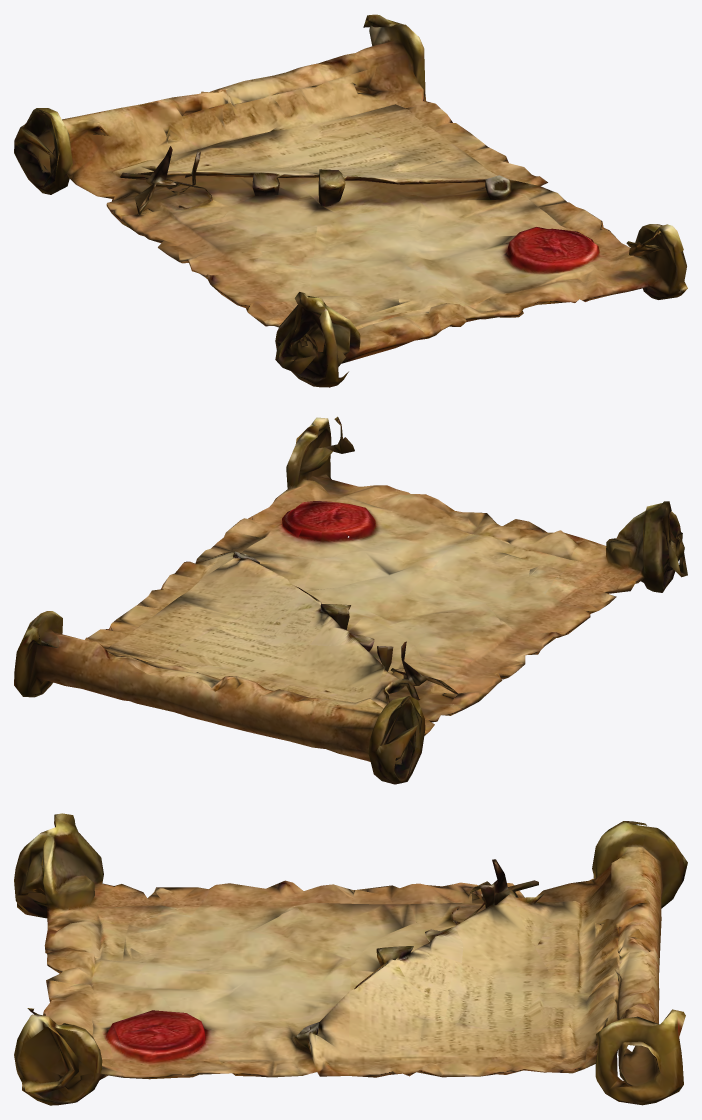
The model's file is mempool-scroll.glb.
The picture shows the model from 3 angles, top to bottom: view 1: azimuth 30°, elevation 25°; view 2: azimuth 150°, elevation 25°; view 3: azimuth 270°, elevation 25°; orthographic projection. The views are drawn at different scales.
Visible parts, largest first — view 1: tripo_node_13026cf5-1363-46cd-a3e3-1f3f193805f4; view 2: tripo_node_13026cf5-1363-46cd-a3e3-1f3f193805f4; view 3: tripo_node_13026cf5-1363-46cd-a3e3-1f3f193805f4.
Boxes of the visible parts, bbox=[...] form: tripo_node_13026cf5-1363-46cd-a3e3-1f3f193805f4: bbox=[14, 14, 687, 387]; tripo_node_13026cf5-1363-46cd-a3e3-1f3f193805f4: bbox=[14, 416, 687, 784]; tripo_node_13026cf5-1363-46cd-a3e3-1f3f193805f4: bbox=[14, 813, 687, 1105].
Bounding box in the file's own units: 0.7447 × 0.1633 × 0.9981.
Materials: 1 (1 with a texture image).
